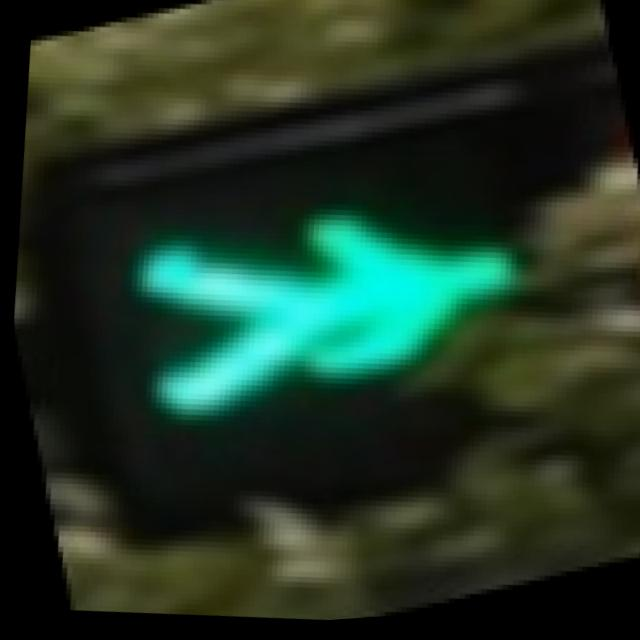green_light: (67, 77, 610, 552)
